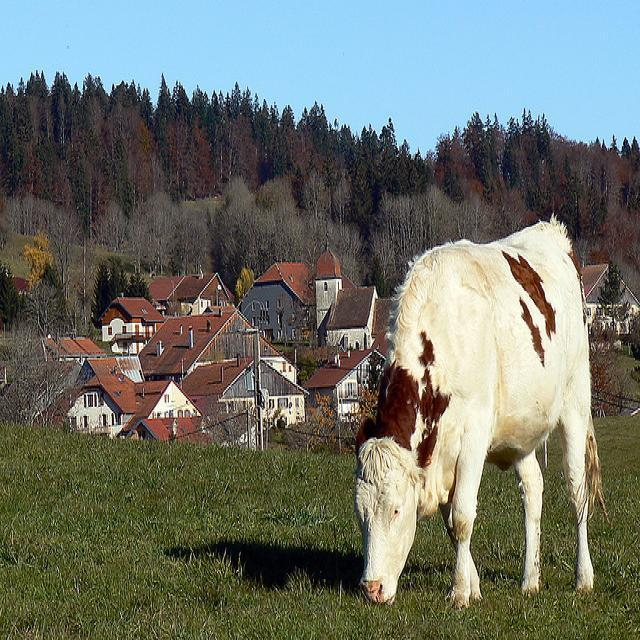cow: (352, 215, 615, 611)
